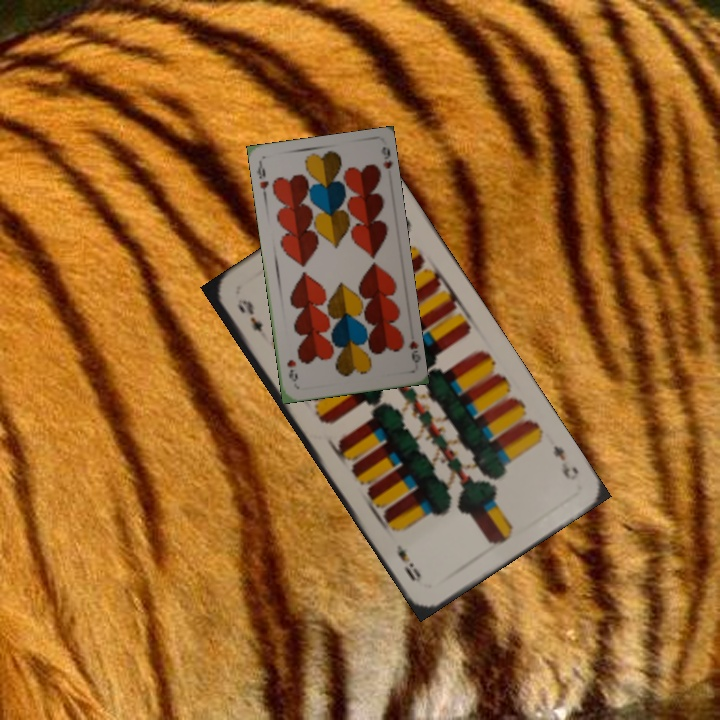E9: (549, 441, 582, 483), (233, 294, 266, 335)
H9: (253, 159, 271, 200), (404, 337, 422, 366)
